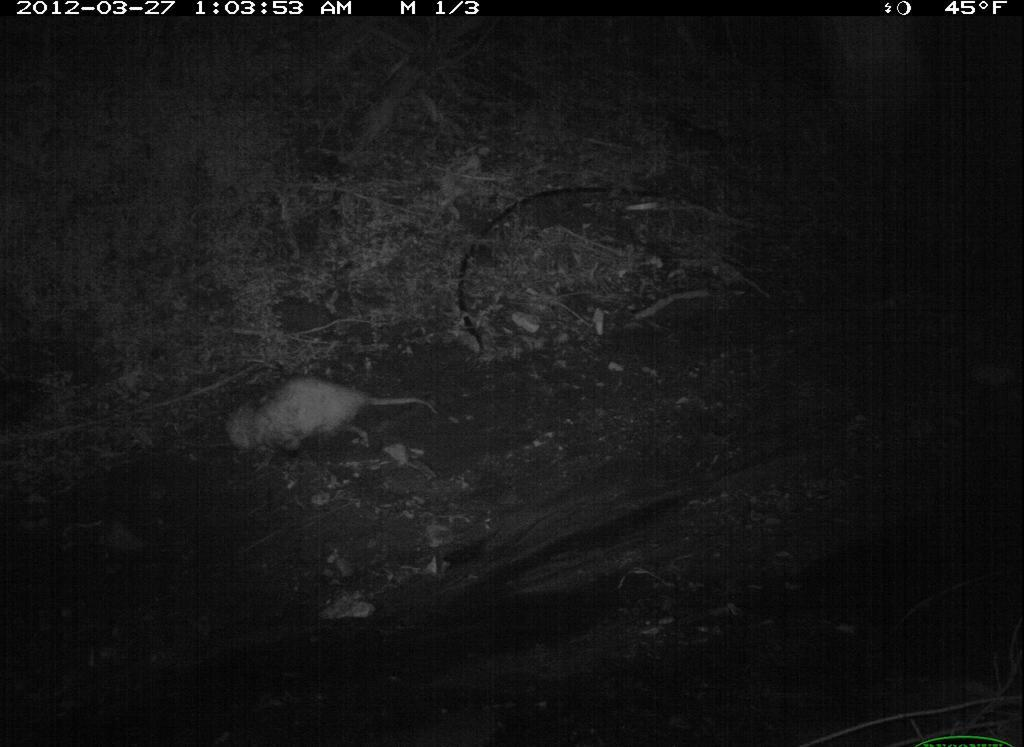opossum: (223, 367, 442, 478)
